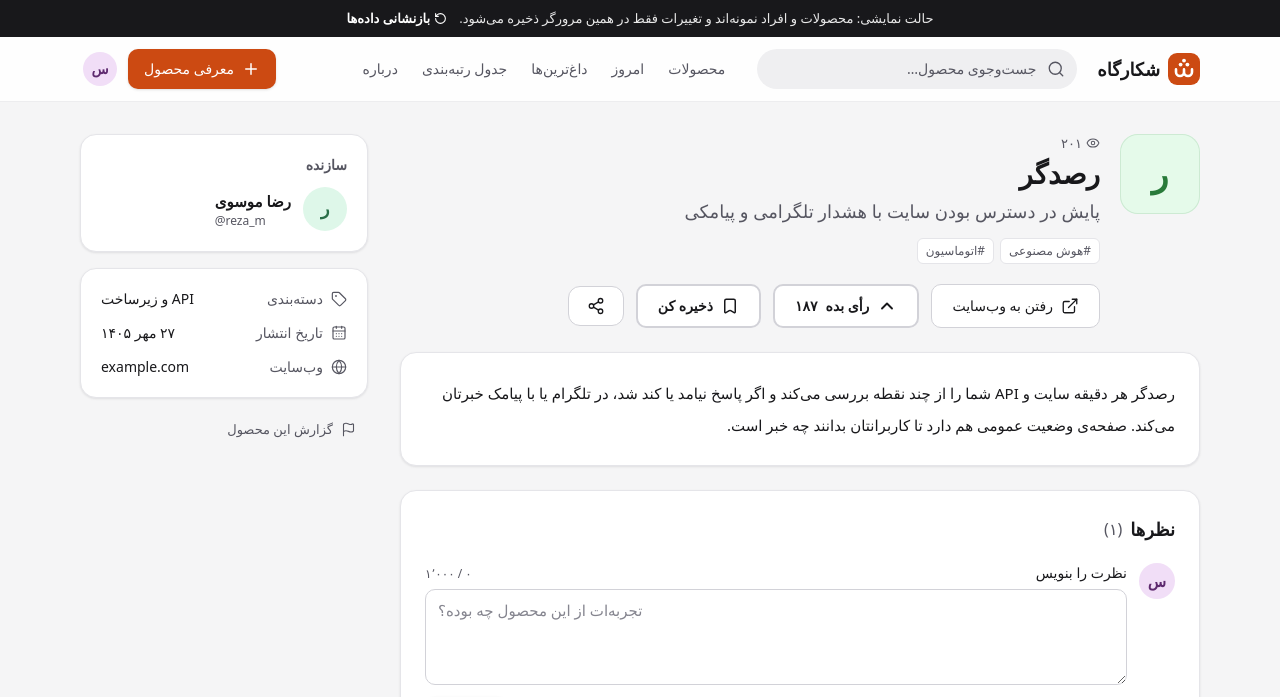
product page › renders comment text literally instead of as HTML
Type "<img src=x onerror=alert(1)> عالی" into the text box labelled "نظرت را بنویس" at (776, 636), box 425,588 -> 1127,684
(page scrolled)
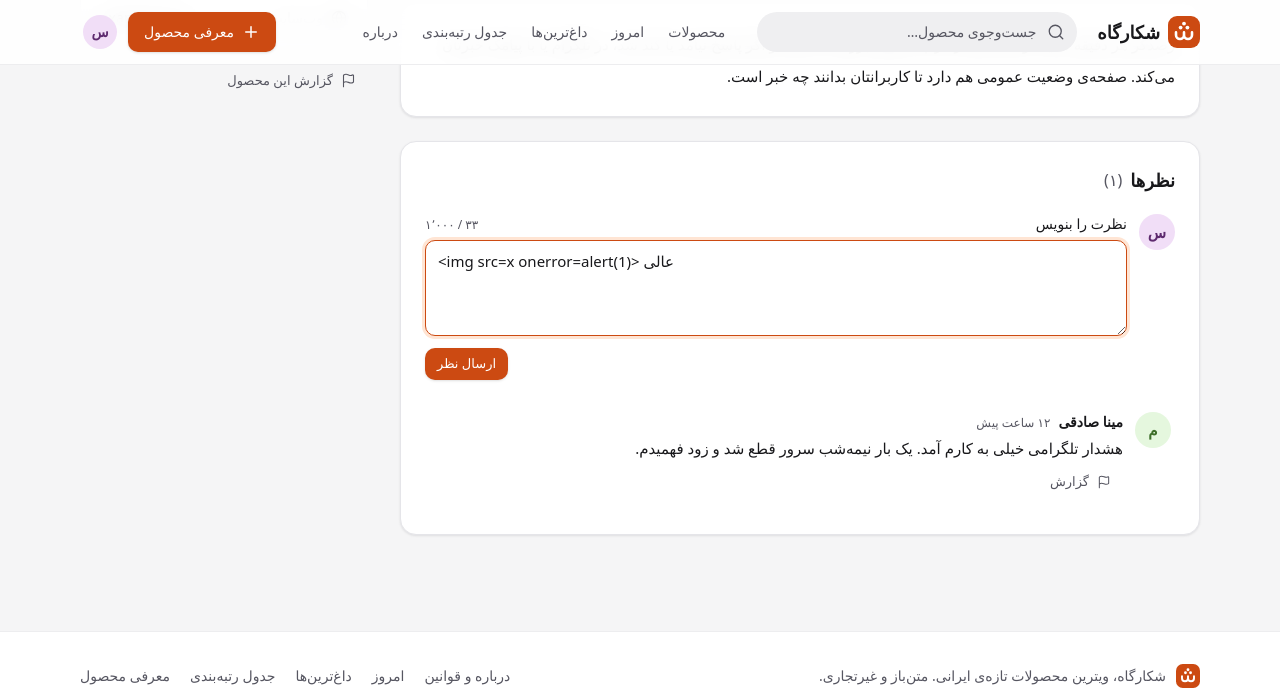
Click the button "ارسال نظر" at (466, 364), box 425,348 -> 508,380
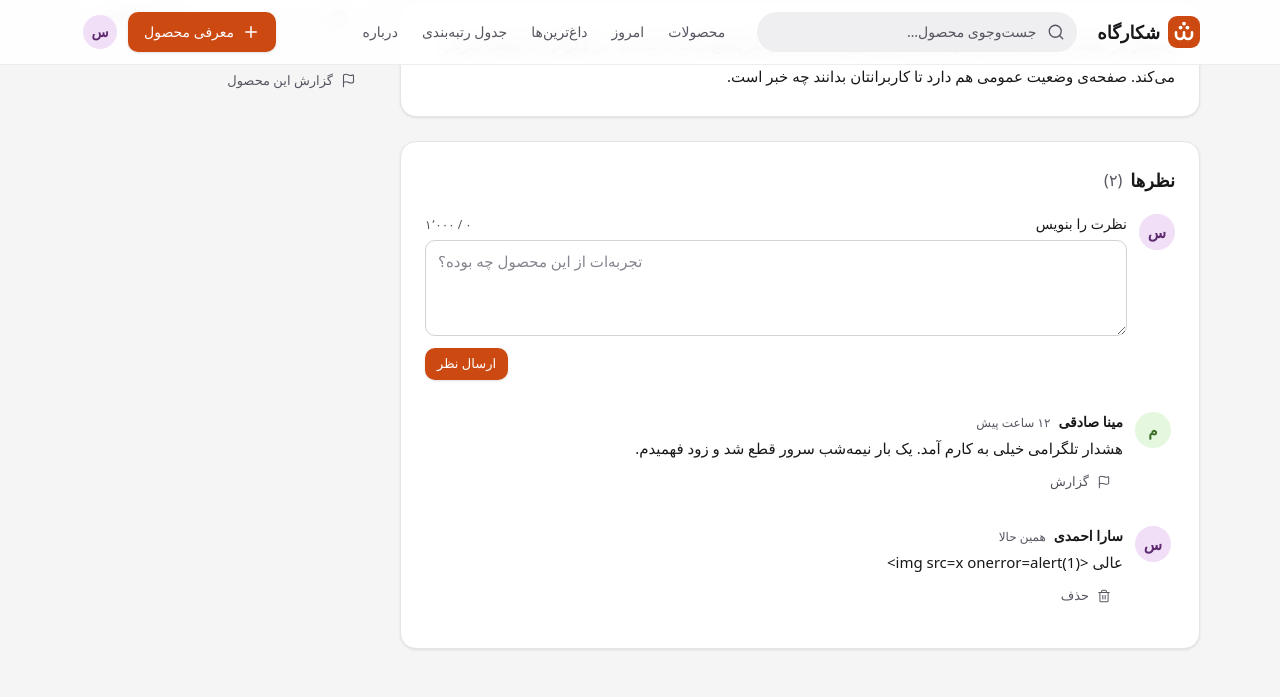
Check: the text "<img src=x onerror=alert(1)> عالی" is shown, box 887,552 -> 1123,572
